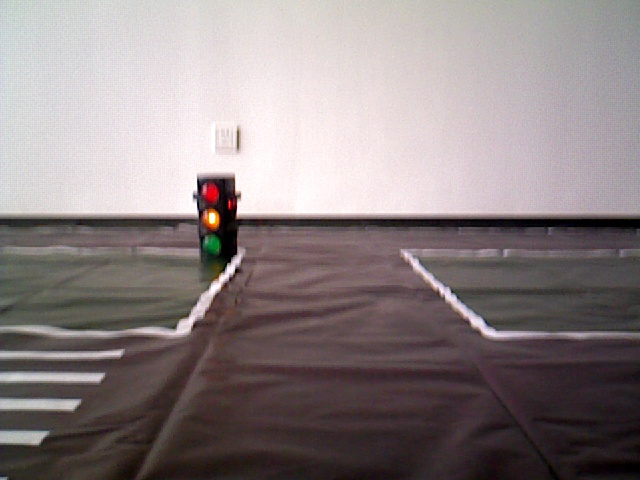yellow: (195, 170, 237, 260)
